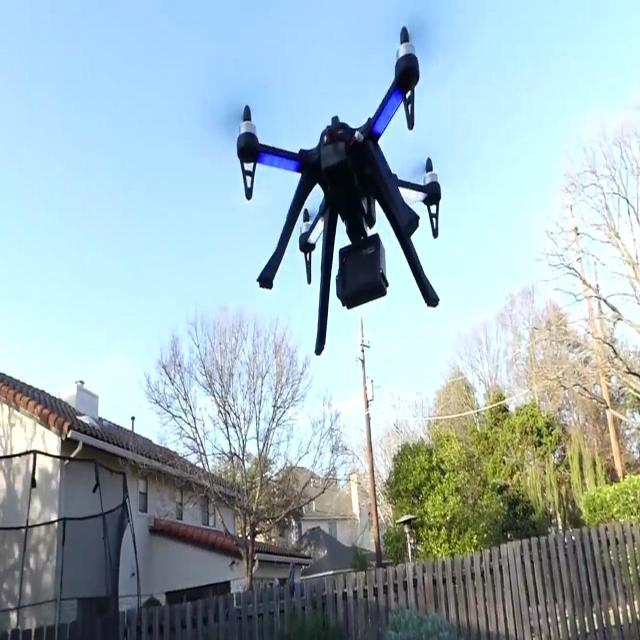drone: (236, 20, 444, 360)
